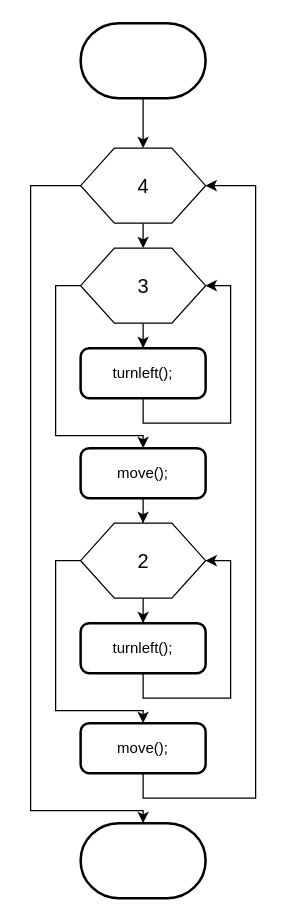
This 288x920 diagram has some shape labels left out. Each missing label, with the centre of its shape:
Fin: point 142,860
Inicio: point 142,60
